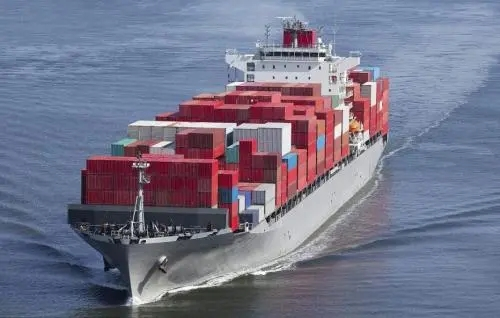Cargoship: (64, 15, 390, 299)
